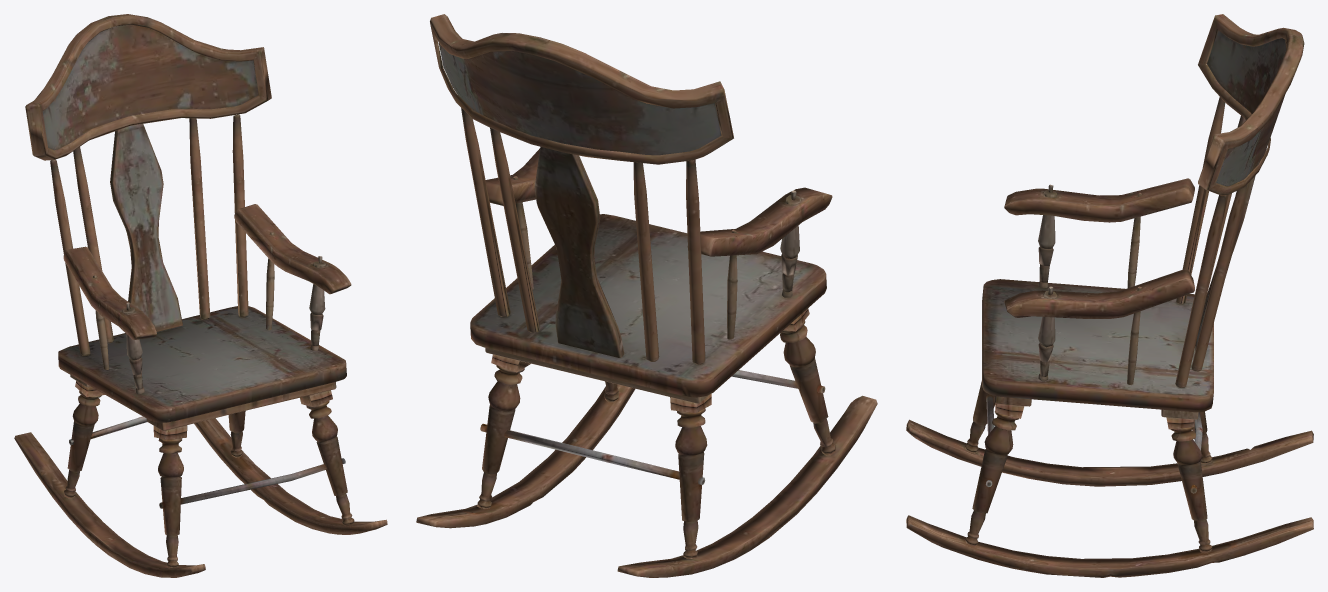
File: rockingchair.deployed.glb
The picture shows the model from 3 angles, left to right: view 1: azimuth 30°, elevation 25°; view 2: azimuth 150°, elevation 25°; view 3: azimuth 270°, elevation 25°; orthographic projection. The views are drawn at different scales.
Parts seen in each view (by area): view 1: rocking_chair_LOD0; view 2: rocking_chair_LOD0; view 3: rocking_chair_LOD0.
Part boxes in pixels (bbox=[...]): rocking_chair_LOD0: bbox=[14, 14, 387, 577]; rocking_chair_LOD0: bbox=[416, 14, 877, 577]; rocking_chair_LOD0: bbox=[906, 14, 1313, 577].
Size of the model in its own units: 0.7165 by 1.29 by 0.9763.
Materials: 1 (1 with a texture image).
